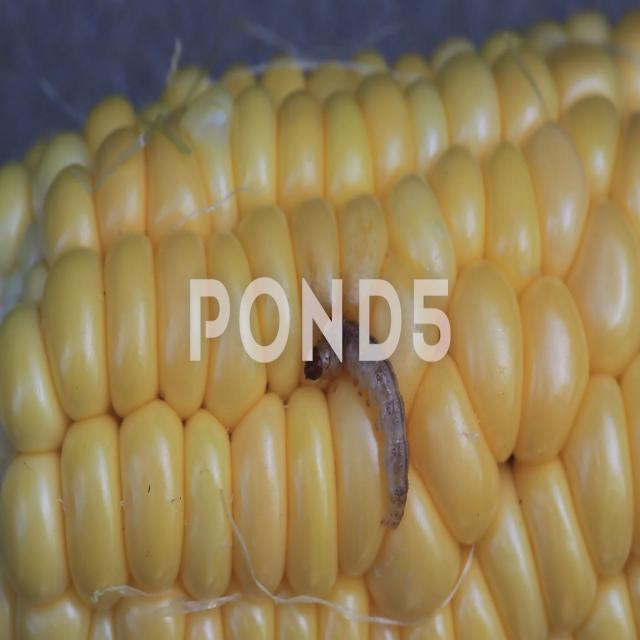cornborer-Larva-: (300, 322, 414, 532)
